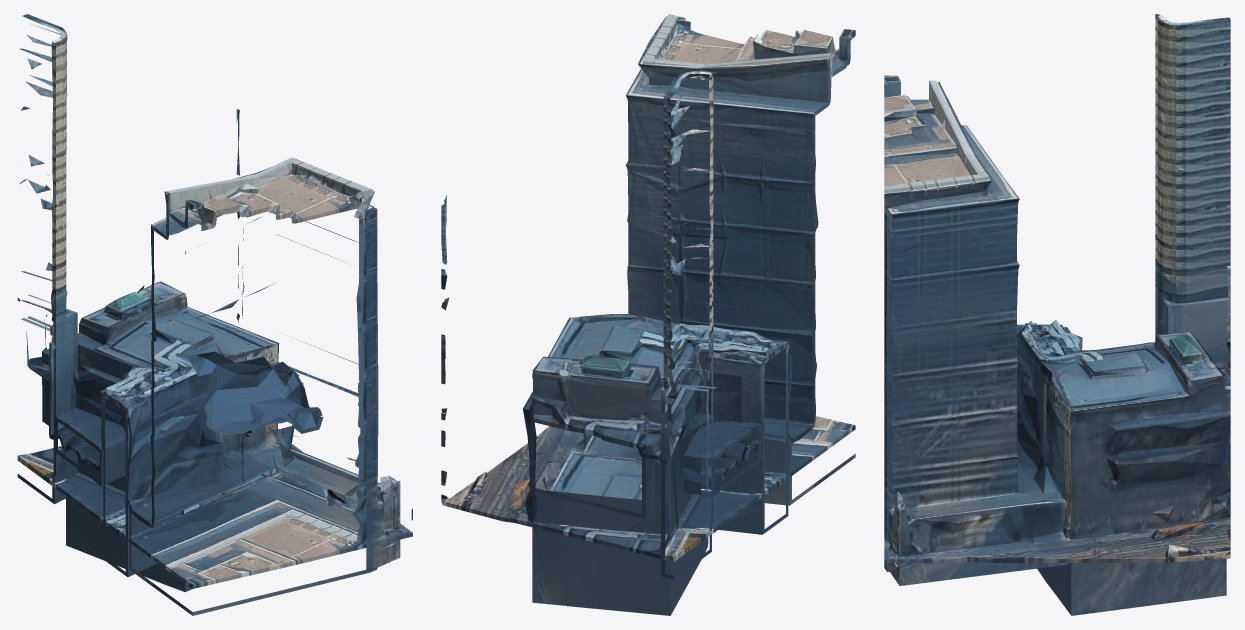
File: chunk_2_7.glb
3 views of the same model, side by side, from view 1: azimuth 30°, elevation 25°; view 2: azimuth 150°, elevation 25°; view 3: azimuth 270°, elevation 25° (orthographic). The views are drawn at different scales.
Visible parts, largest first — view 1: hero-chunk; view 2: hero-chunk; view 3: hero-chunk.
Part boxes in pixels (x1,y1,x2,y2): hero-chunk: (17, 14, 412, 615); hero-chunk: (441, 14, 855, 615); hero-chunk: (884, 14, 1230, 615).
Bounding box in the file's own units: 57.27 × 125 × 76.33.
Materials: 4 (4 with a texture image).
